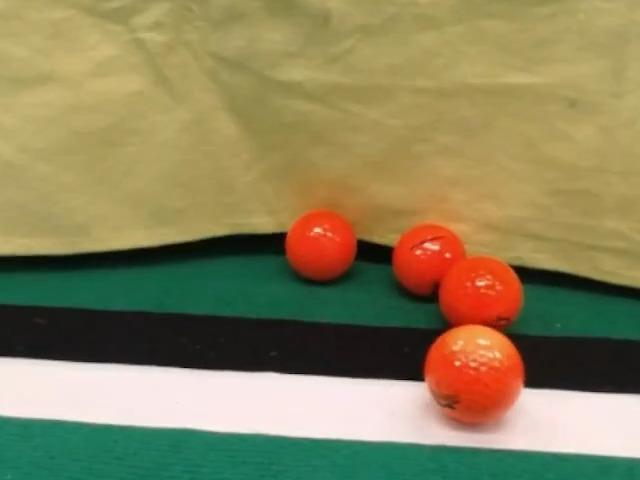Ball: (424, 325, 524, 424), (438, 256, 523, 329), (391, 223, 465, 296), (285, 209, 357, 282)
